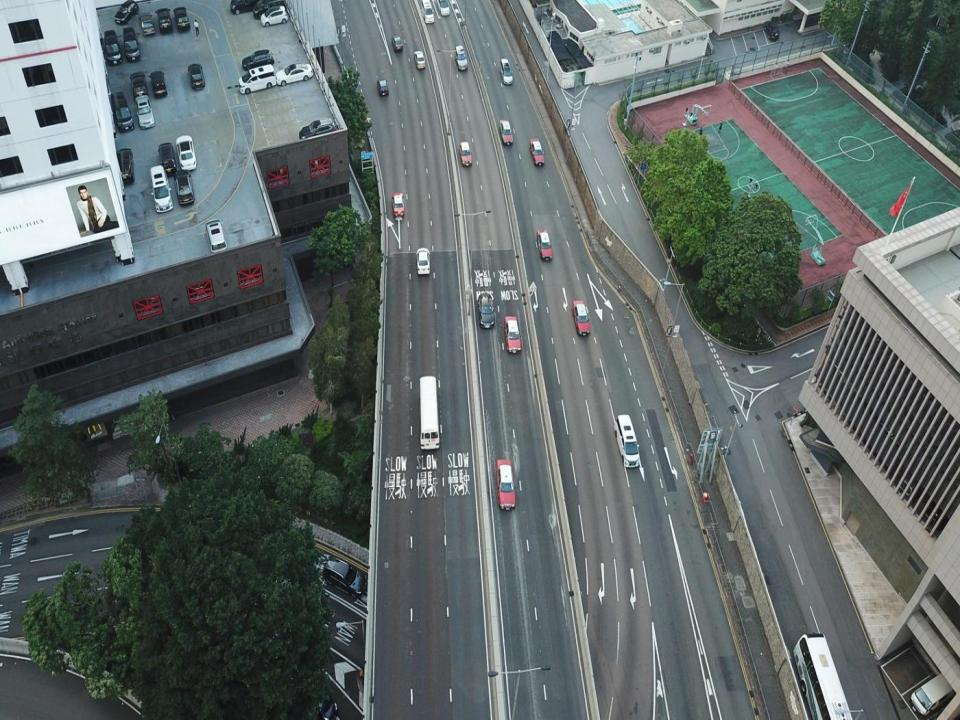bus: (793, 633, 851, 719), (418, 375, 442, 450), (418, 1, 436, 24), (438, 3, 450, 20)
car: (321, 552, 368, 600), (494, 457, 517, 510), (299, 117, 341, 141), (276, 60, 313, 85), (114, 148, 134, 187), (175, 169, 195, 207), (477, 293, 497, 331), (134, 94, 154, 131), (206, 220, 228, 253), (178, 133, 196, 169), (245, 48, 279, 66), (256, 6, 290, 24), (148, 70, 168, 99), (113, 3, 137, 27), (534, 230, 552, 262), (527, 136, 545, 168), (159, 141, 175, 176), (104, 25, 118, 65), (504, 318, 520, 352), (131, 72, 149, 102), (188, 61, 204, 94), (458, 137, 474, 168), (122, 28, 138, 58), (453, 44, 469, 73), (499, 53, 513, 86), (415, 246, 431, 274), (260, 1, 290, 15), (574, 302, 586, 336), (499, 120, 515, 145), (175, 6, 190, 32), (230, 3, 260, 16), (141, 7, 154, 36), (391, 194, 404, 218), (413, 48, 426, 72), (375, 77, 390, 97), (159, 6, 169, 34), (390, 36, 405, 54)
van: (907, 669, 960, 714), (614, 411, 639, 469), (237, 61, 278, 94), (151, 164, 172, 215), (109, 87, 132, 132)
